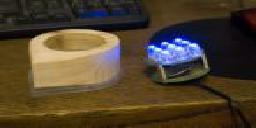LED: (145, 37, 203, 61)
